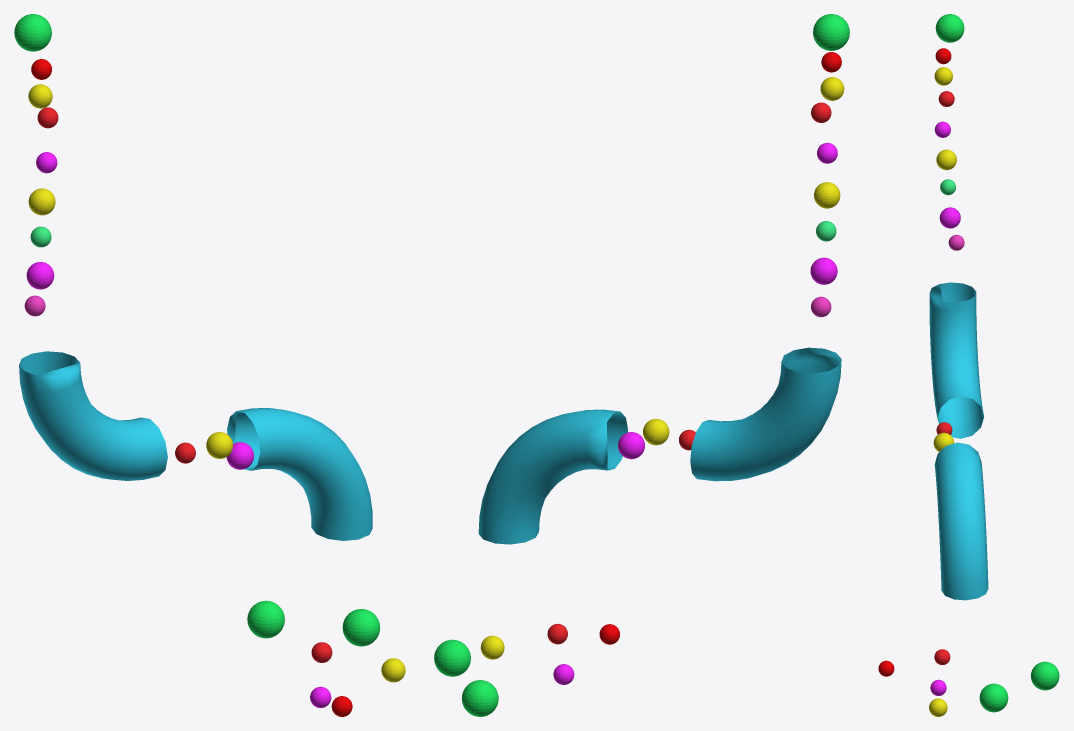
The model's file is physics2.glb.
3 views of the same model, side by side, from view 1: azimuth 30°, elevation 25°; view 2: azimuth 150°, elevation 25°; view 3: azimuth 270°, elevation 25° (orthographic). The views are drawn at different scales.
Parts seen in each view (by area): view 1: Torus.001, Torus.002, Sphere.012, Sphere, Sphere.019, Sphere.002; view 2: Torus.001, Torus.002, Sphere.019, Sphere, Sphere.012; view 3: Torus.002, Torus.001, Sphere.019, Sphere, Sphere.012, Sphere.002, Sphere.003.
Boxes of the visible parts, left/top/right/bottom form: Torus.001: left=19, top=351, right=167, bottom=480; Torus.002: left=227, top=408, right=372, bottom=540; Sphere.012: left=247, top=600, right=284, bottom=638; Sphere: left=14, top=14, right=51, bottom=51; Sphere.019: left=342, top=609, right=380, bottom=646; Sphere.002: left=26, top=262, right=54, bottom=289; Torus.001: left=690, top=347, right=841, bottom=481; Torus.002: left=478, top=409, right=627, bottom=544; Sphere.019: left=434, top=639, right=470, bottom=676; Sphere: left=813, top=14, right=849, bottom=50; Sphere.012: left=461, top=680, right=498, bottom=716; Torus.002: left=934, top=442, right=988, bottom=600; Torus.001: left=929, top=282, right=983, bottom=438; Sphere.019: left=979, top=683, right=1008, bottom=712; Sphere: left=935, top=14, right=964, bottom=42; Sphere.012: left=1030, top=661, right=1059, bottom=690; Sphere.002: left=939, top=207, right=960, bottom=228; Sphere.003: left=936, top=149, right=956, bottom=170.
Size of what is drawn, in the model's own units: 6.45 by 11.93 by 3.4.
